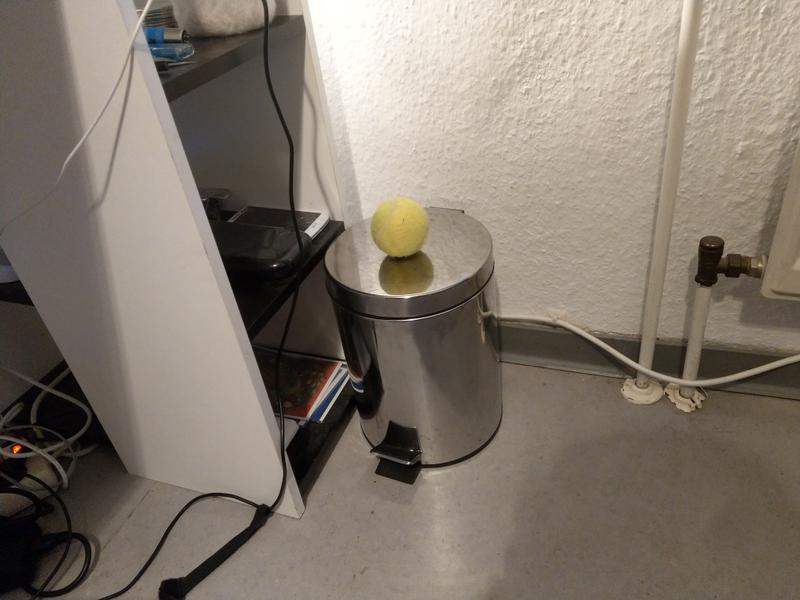Tennisball: (369, 191, 432, 259)
